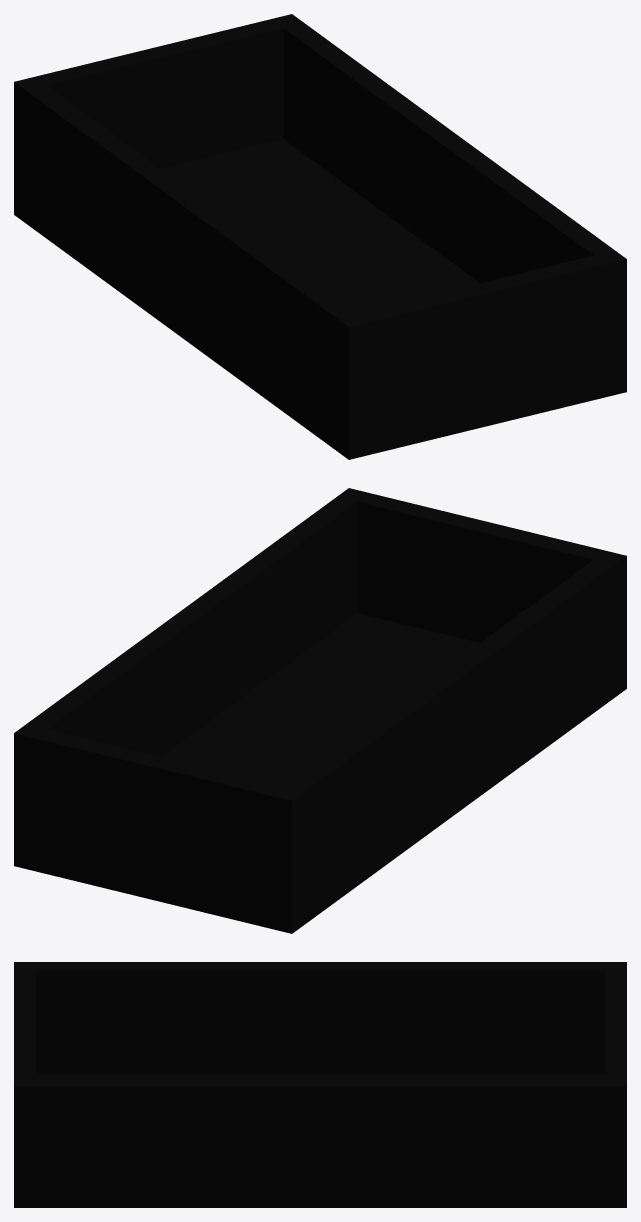
The picture shows the model from 3 angles, top to bottom: view 1: azimuth 30°, elevation 25°; view 2: azimuth 150°, elevation 25°; view 3: azimuth 270°, elevation 25°; orthographic projection. The views are drawn at different scales.
Parts seen in each view (by area): view 1: Box_267x557x122; view 2: Box_267x557x122; view 3: Box_267x557x122.
Boxes of the visible parts, x1=… form: Box_267x557x122: x1=14, y1=14, x2=626, y2=459; Box_267x557x122: x1=14, y1=488, x2=626, y2=933; Box_267x557x122: x1=14, y1=962, x2=626, y2=1207.
Bounding box in the file's own units: 0.267 × 0.122 × 0.557.
1 material, 1 textured.
